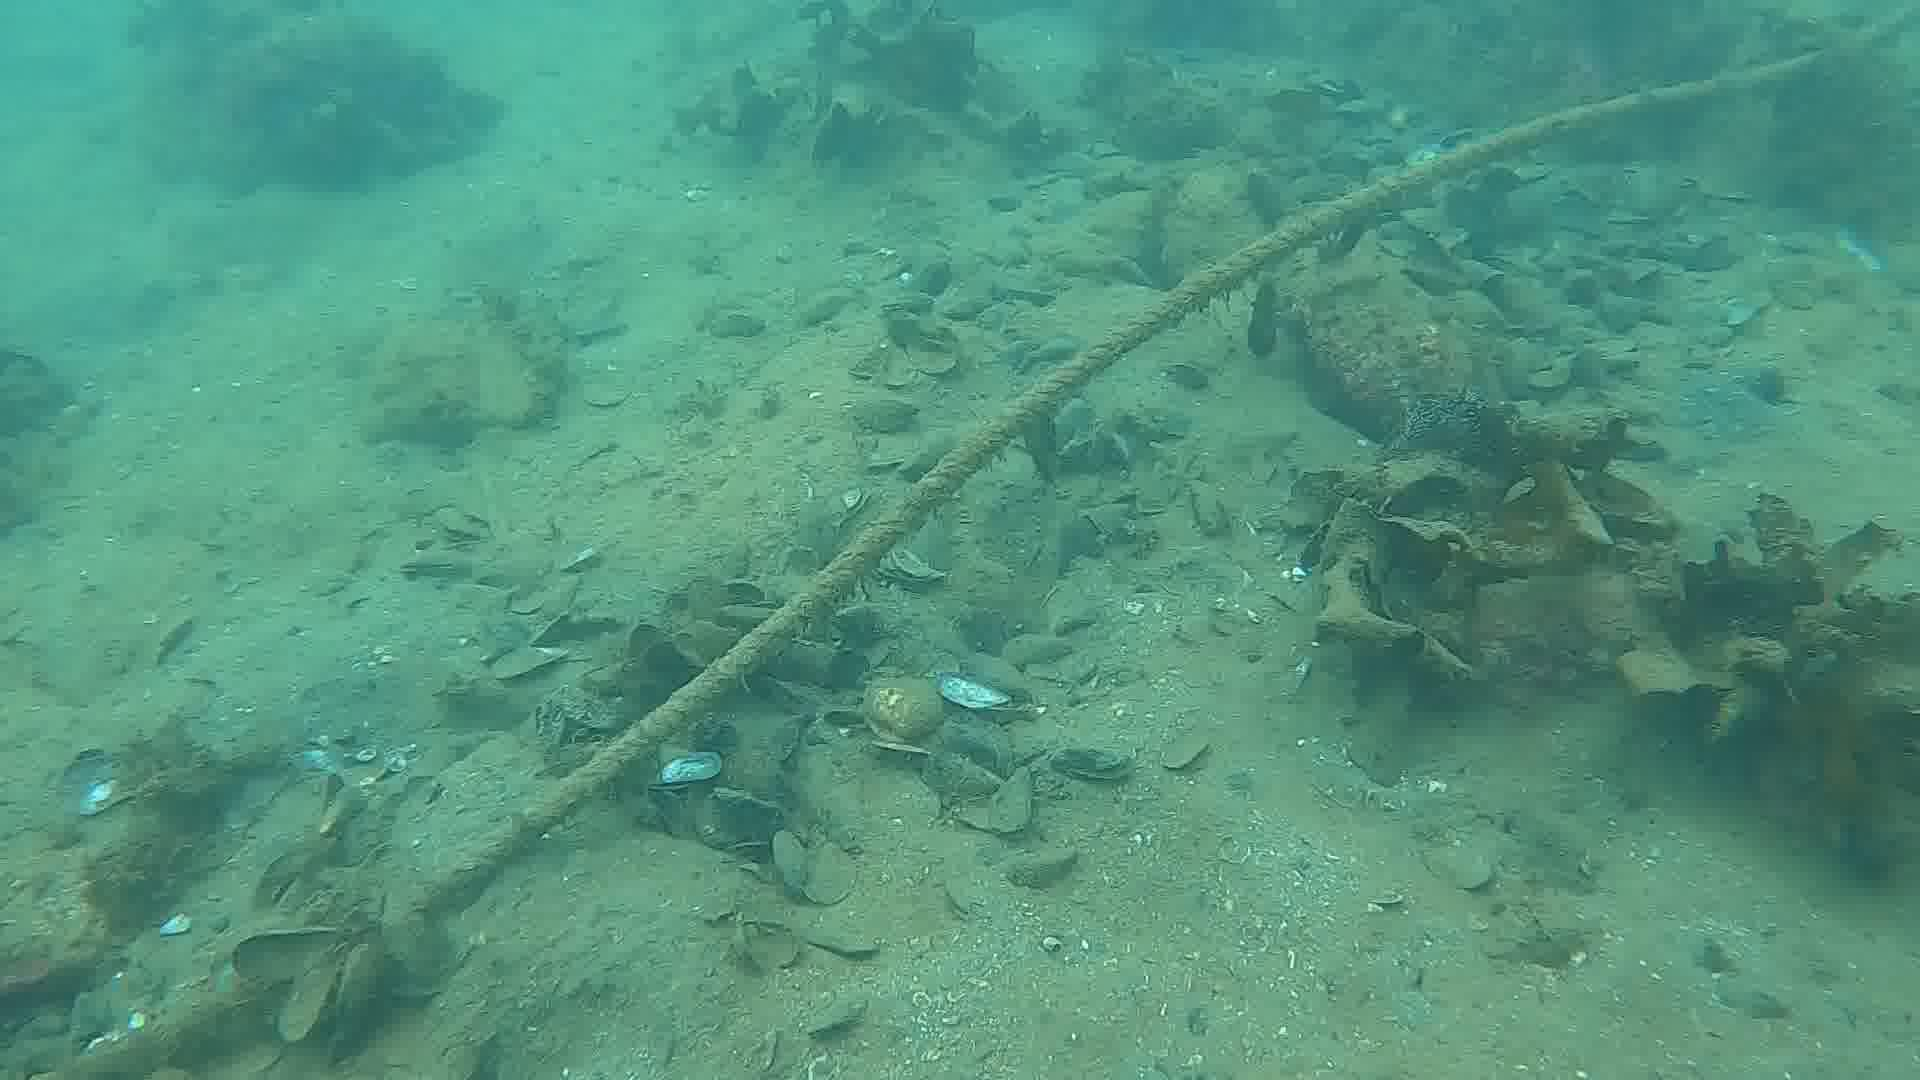rope: (0, 15, 1905, 1079)
